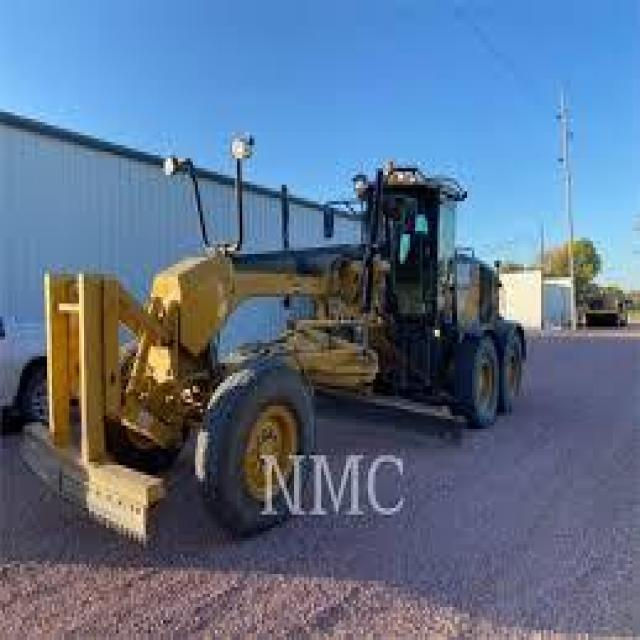Grader: (42, 142, 573, 564)
